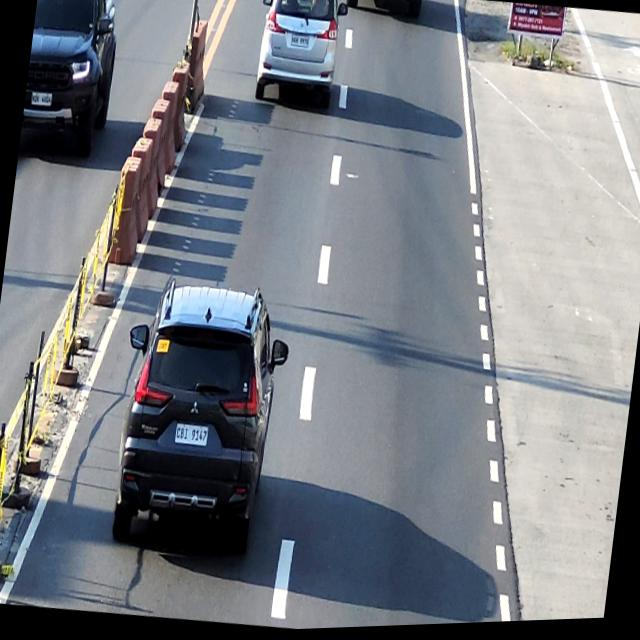Car: (104, 271, 296, 571), (18, 0, 125, 161), (249, 0, 351, 115)
License-Plate: (172, 423, 208, 449), (30, 91, 52, 108), (290, 35, 310, 51)
